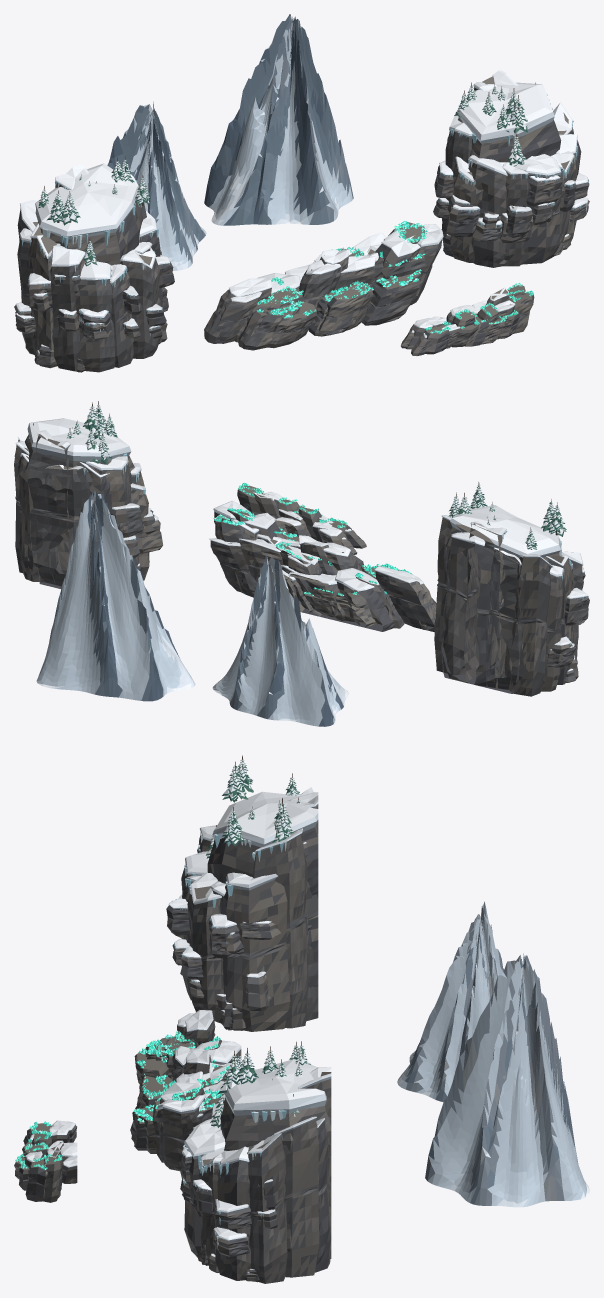
File: himalayan-terrain.glb
3 renders of one model, top to bottom at view 1: azimuth 30°, elevation 25°; view 2: azimuth 150°, elevation 25°; view 3: azimuth 270°, elevation 25°, orthographic. The views are drawn at different scales.
Visible parts, largest first — view 1: 01 East Sentinel, 02 West Escarpment, 06 High North Horn, 03 Rising Lichen Ridge, 05 Split Glacier Horn, 04 Lichen Talus; view 2: 01 East Sentinel, 06 High North Horn, 02 West Escarpment, 03 Rising Lichen Ridge, 05 Split Glacier Horn, 04 Lichen Talus; view 3: 01 East Sentinel, 02 West Escarpment, 06 High North Horn, 03 Rising Lichen Ridge, 05 Split Glacier Horn, 04 Lichen Talus.
Part boxes in pixels (x1,y1,x2,y2): 01 East Sentinel: (14, 156, 174, 372); 02 West Escarpment: (433, 70, 589, 267); 06 High North Horn: (204, 14, 353, 225); 03 Rising Lichen Ridge: (204, 221, 443, 350); 05 Split Glacier Horn: (107, 101, 206, 270); 04 Lichen Talus: (401, 283, 534, 355); 01 East Sentinel: (433, 482, 589, 696); 06 High North Horn: (36, 490, 195, 701); 02 West Escarpment: (14, 401, 162, 588); 03 Rising Lichen Ridge: (209, 500, 436, 631); 05 Split Glacier Horn: (212, 555, 349, 726); 04 Lichen Talus: (237, 483, 366, 554); 01 East Sentinel: (166, 755, 318, 1031); 02 West Escarpment: (180, 1041, 331, 1283); 06 High North Horn: (425, 953, 589, 1207); 03 Rising Lichen Ridge: (130, 1010, 241, 1171); 05 Split Glacier Horn: (397, 901, 503, 1102); 04 Lichen Talus: (14, 1120, 77, 1202).
Bounding box in the file's own units: 24.46 × 7.6 × 17.55.
